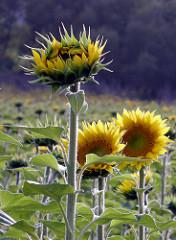sunflower: (24, 27, 109, 81), (109, 109, 169, 169), (64, 122, 123, 170)
